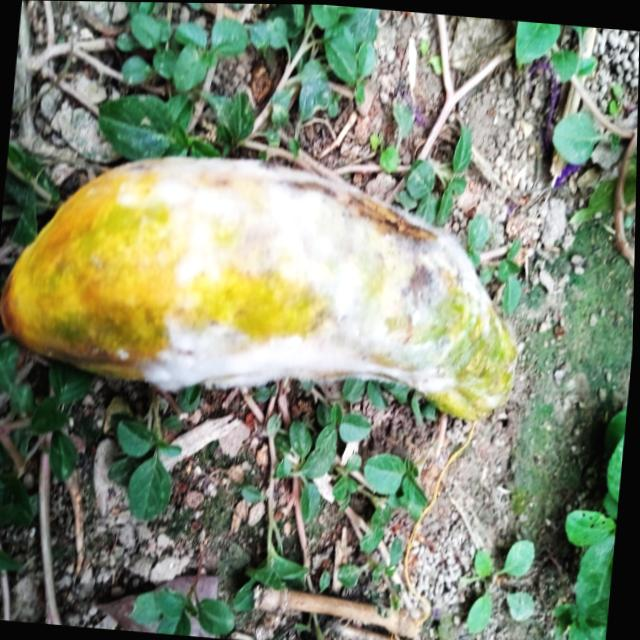Pythium-Fruit-Rot: (123, 143, 504, 421)
